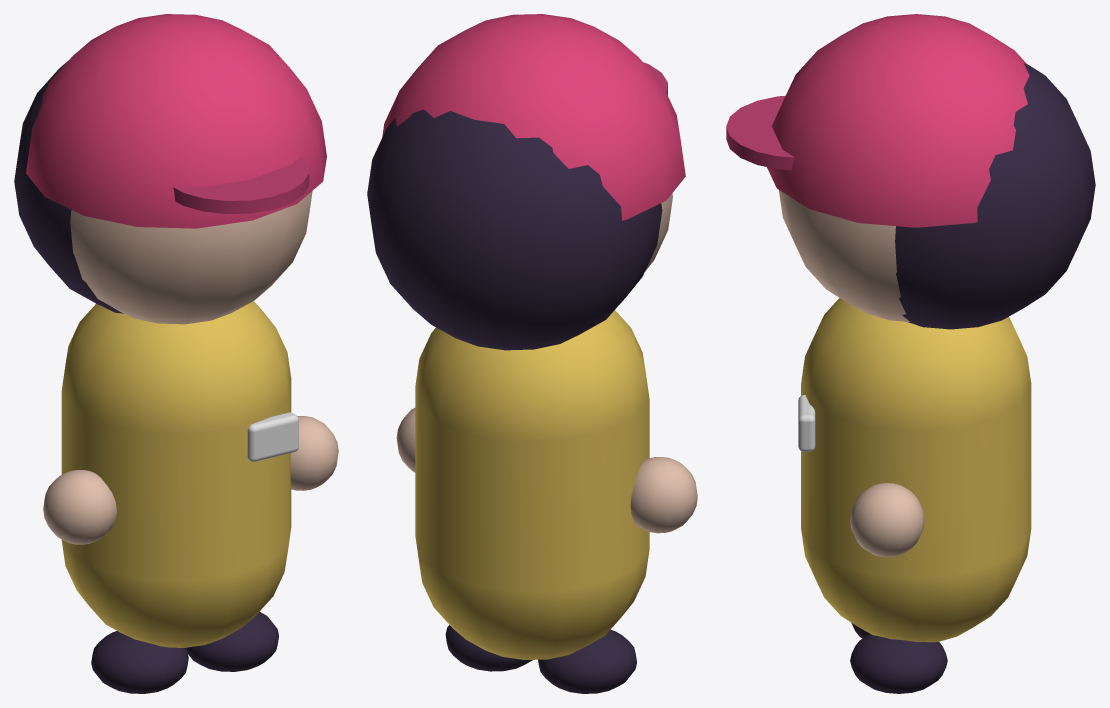
The model's file is human-cap.glb.
3 renders of one model, left to right at view 1: azimuth 30°, elevation 25°; view 2: azimuth 150°, elevation 25°; view 3: azimuth 270°, elevation 25°, orthographic. The views are drawn at different scales.
Visible parts, largest first — view 1: humanCap; view 2: humanCap; view 3: humanCap.
Part boxes in pixels (<box>): humanCap: <box>14,14,338,693</box>; humanCap: <box>367,14,697,693</box>; humanCap: <box>726,14,1095,693</box>.
Size of the model in its own units: 0.5701 by 1.22 by 0.642.
